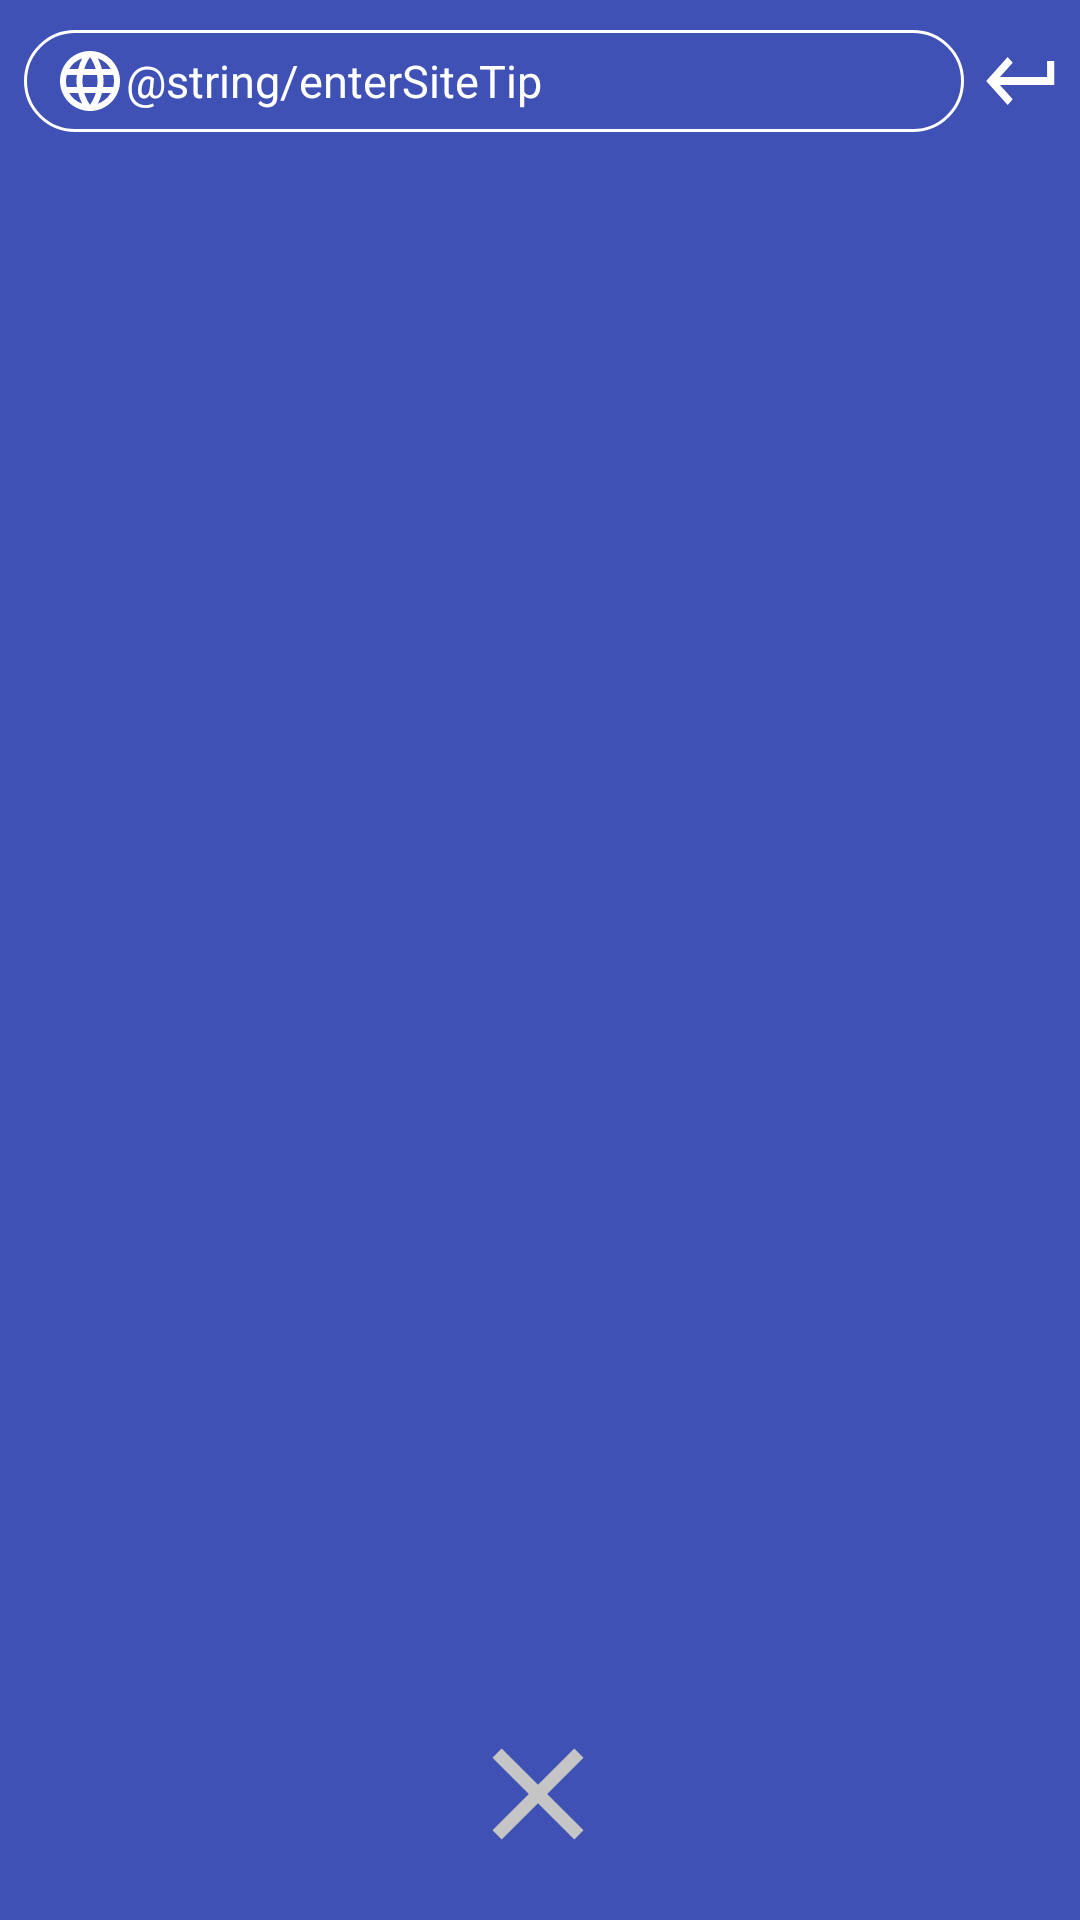

Locate icon controls on the screen. Image size 1080×1920, boxes as bbox=[x1, y1, x2, y2].
close: bbox=[492, 1748, 584, 1840]
return: bbox=[986, 57, 1055, 105]
